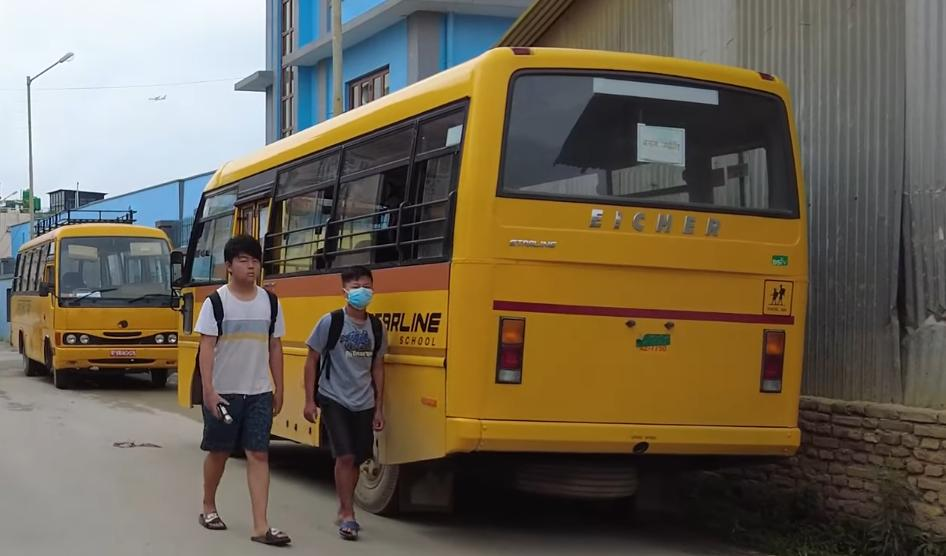school_bus: (172, 40, 815, 520), (5, 205, 186, 388)
